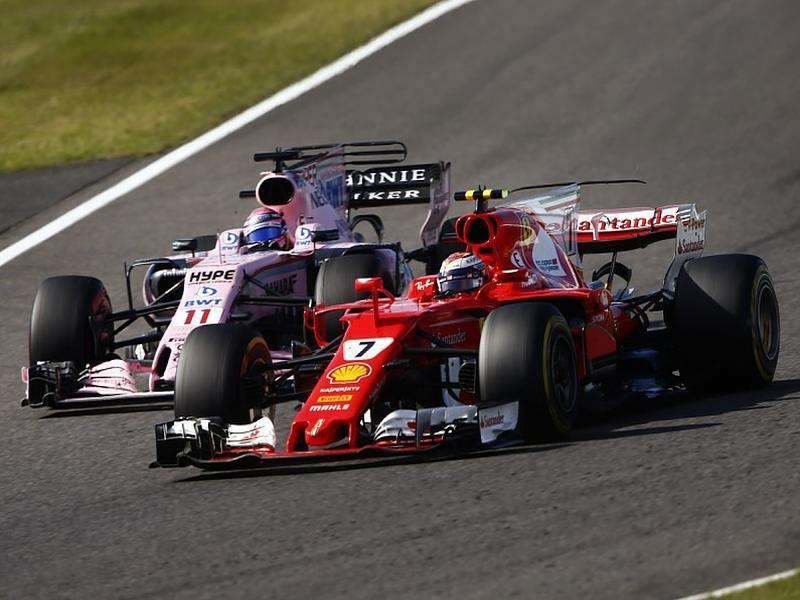f1: (195, 194, 761, 455), (29, 157, 449, 395)
